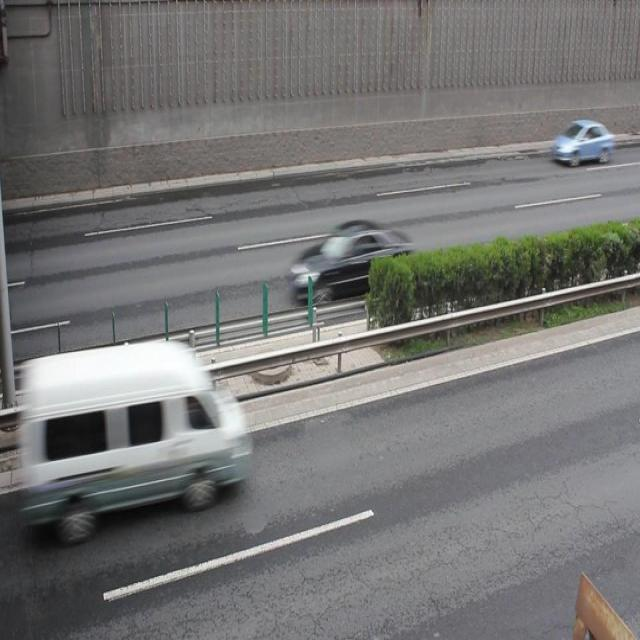car: (290, 217, 410, 303), (549, 117, 613, 167)
truck: (17, 339, 248, 534)
